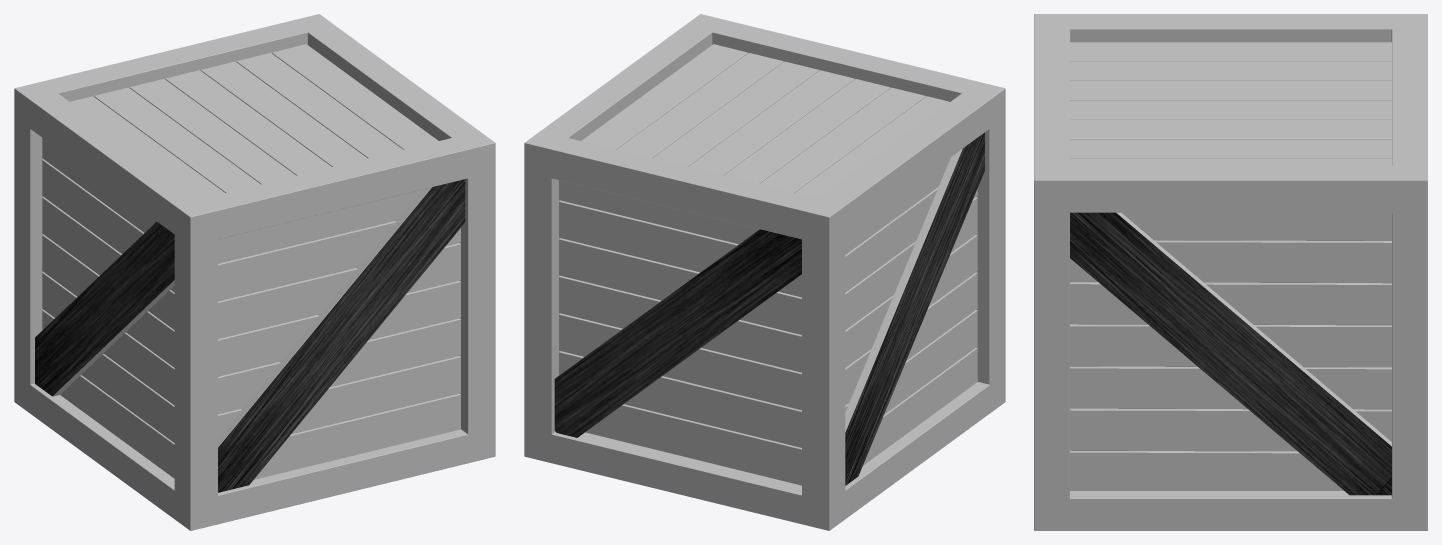
Rendered from Copy of Crate.FBX.
3 renders of one model, left to right at view 1: azimuth 30°, elevation 25°; view 2: azimuth 150°, elevation 25°; view 3: azimuth 270°, elevation 25°, orthographic. The views are drawn at different scales.
Visible parts, largest first — view 1: Box08; view 2: Box08; view 3: Box08.
Boxes of the visible parts, x1,y1,x2,y2 form: Box08: (14, 14, 495, 530); Box08: (524, 14, 1005, 530); Box08: (1034, 14, 1427, 530).
Size of the model in its own units: 74.6 by 73.31 by 74.6.
